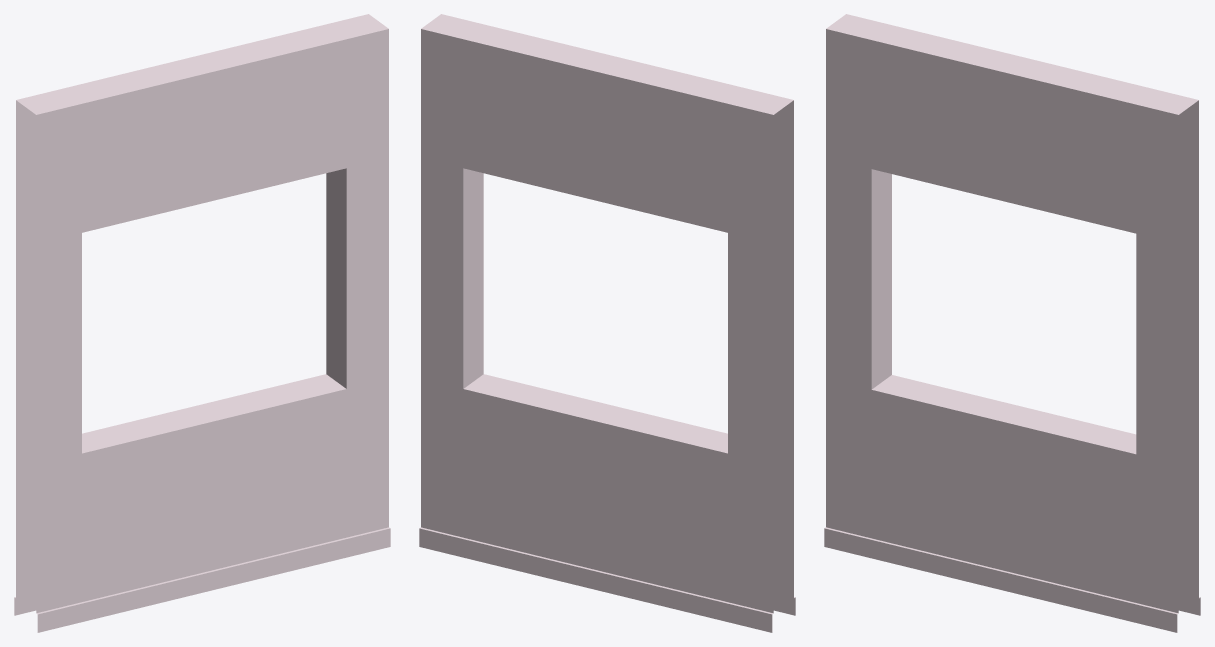
File: env_wall_window_2m_interior.fbx
The picture shows the model from 3 angles, left to right: view 1: azimuth 30°, elevation 25°; view 2: azimuth 150°, elevation 25°; view 3: azimuth 330°, elevation 25°; orthographic projection.
Parts seen in each view (by area): view 1: Casa pared ventana 2m interna; view 2: Casa pared ventana 2m interna; view 3: Casa pared ventana 2m interna.
Boxes of the visible parts, x1=… form: Casa pared ventana 2m interna: x1=14, y1=14, x2=390, y2=632; Casa pared ventana 2m interna: x1=419, y1=14, x2=795, y2=632; Casa pared ventana 2m interna: x1=824, y1=14, x2=1200, y2=632.
Bounding box in the file's own units: 200 × 280 × 23.
1 material, 1 textured.
